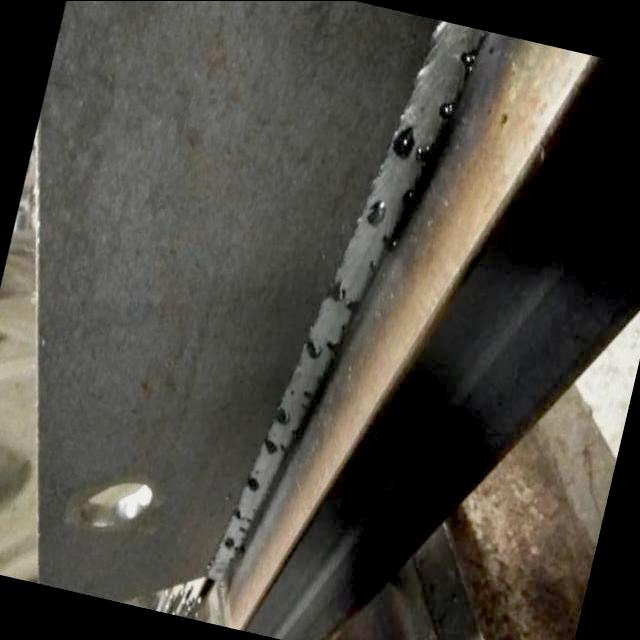defect: (390, 121, 436, 168), (323, 273, 351, 305), (366, 197, 389, 233), (231, 506, 257, 536), (435, 94, 457, 122), (262, 435, 287, 457), (244, 466, 261, 495), (303, 338, 322, 363), (381, 234, 399, 255), (275, 404, 289, 430), (222, 534, 240, 551), (401, 188, 418, 206), (325, 337, 342, 354), (300, 390, 311, 412), (344, 298, 359, 314), (367, 258, 377, 274), (338, 324, 347, 333), (288, 387, 297, 396)
